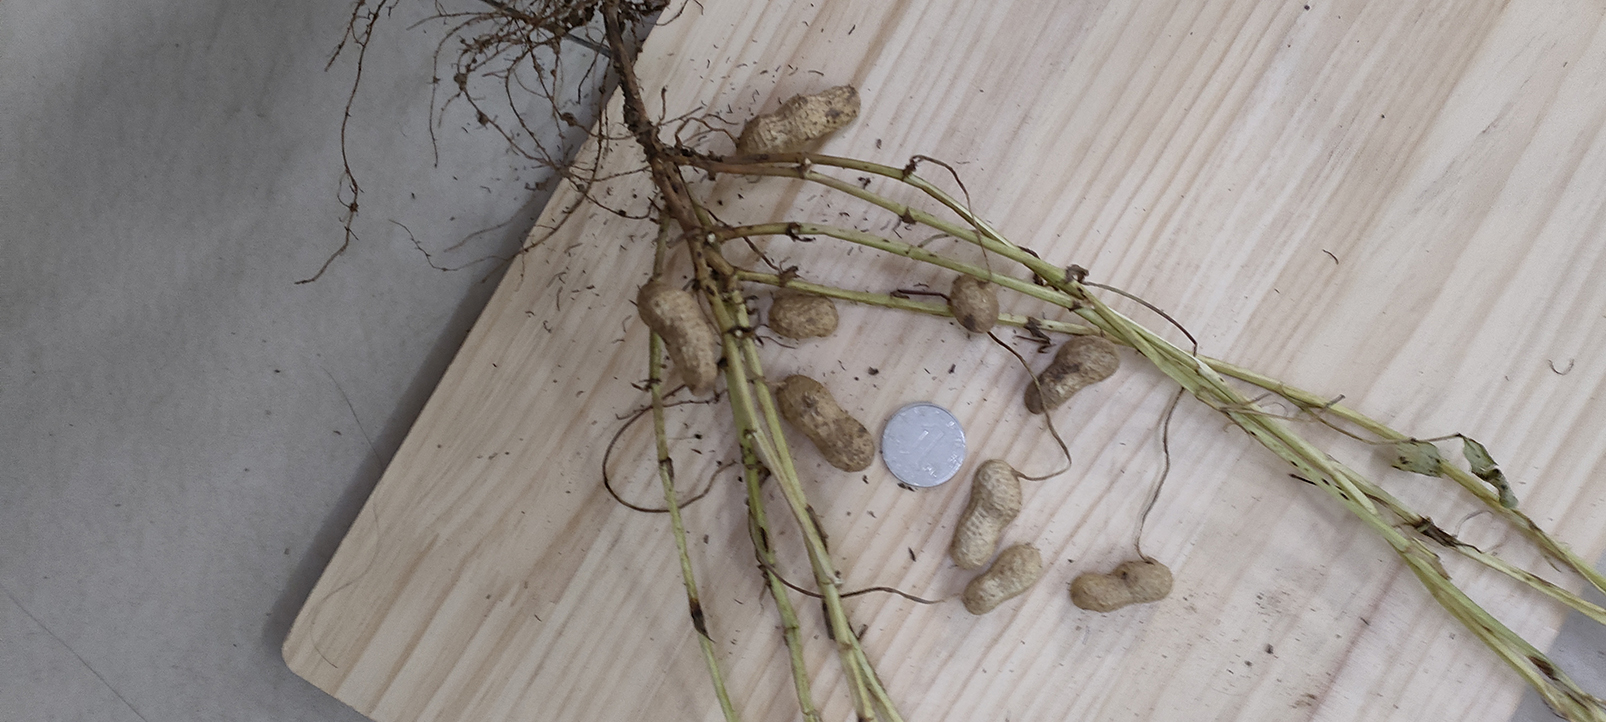h: (776, 374, 876, 471), (636, 281, 716, 396), (736, 86, 861, 158), (952, 459, 1022, 568), (961, 544, 1043, 614), (1070, 560, 1173, 613), (765, 291, 839, 339), (947, 270, 1000, 334)
l: (1022, 335, 1119, 414)
